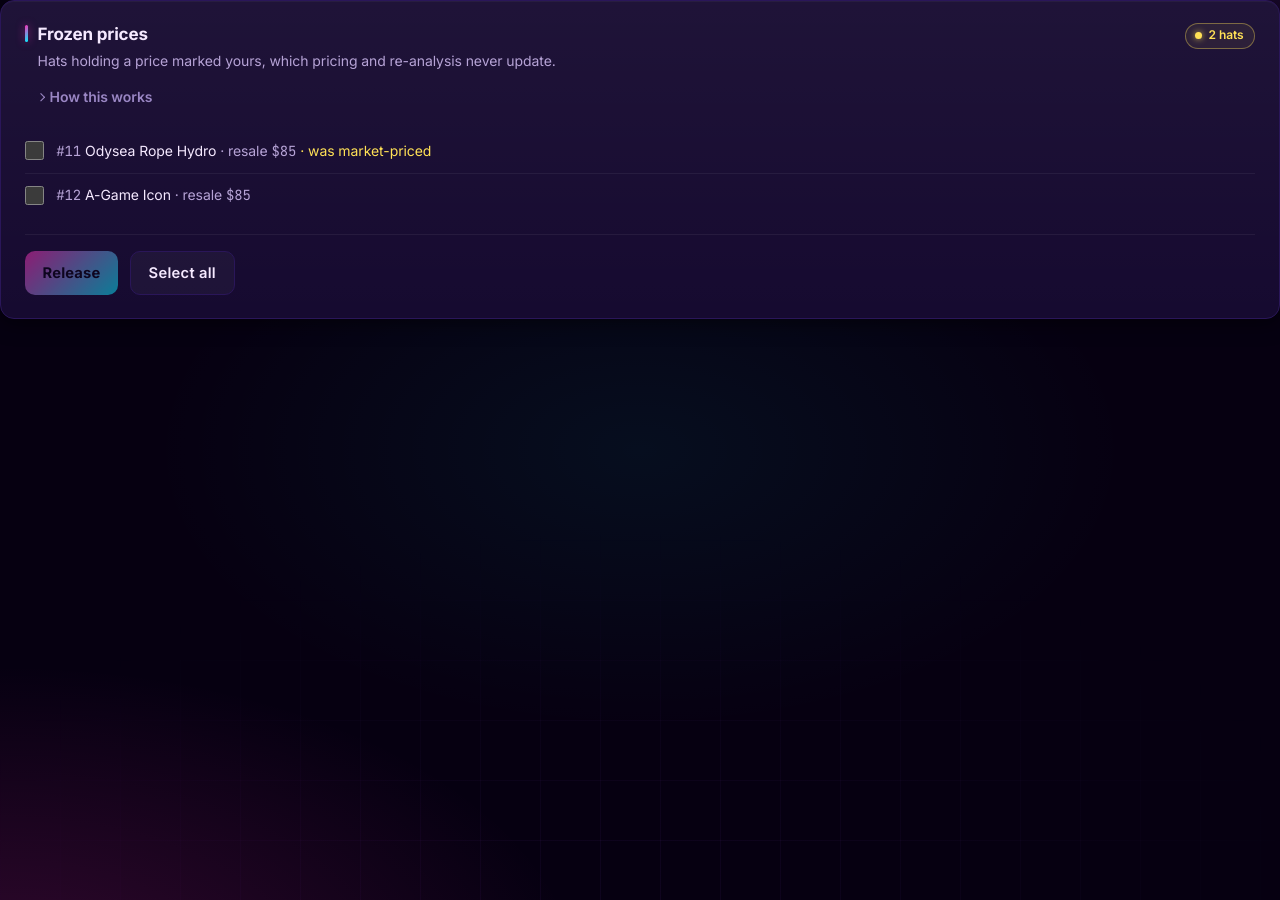
Test: FrozenPricesCard › releases only the ticked hats
Check: the button "Release" is disabled, box [25,252,118,296]
Click the checkbox named "Release hat 12": (35, 195) [25,186,44,205]
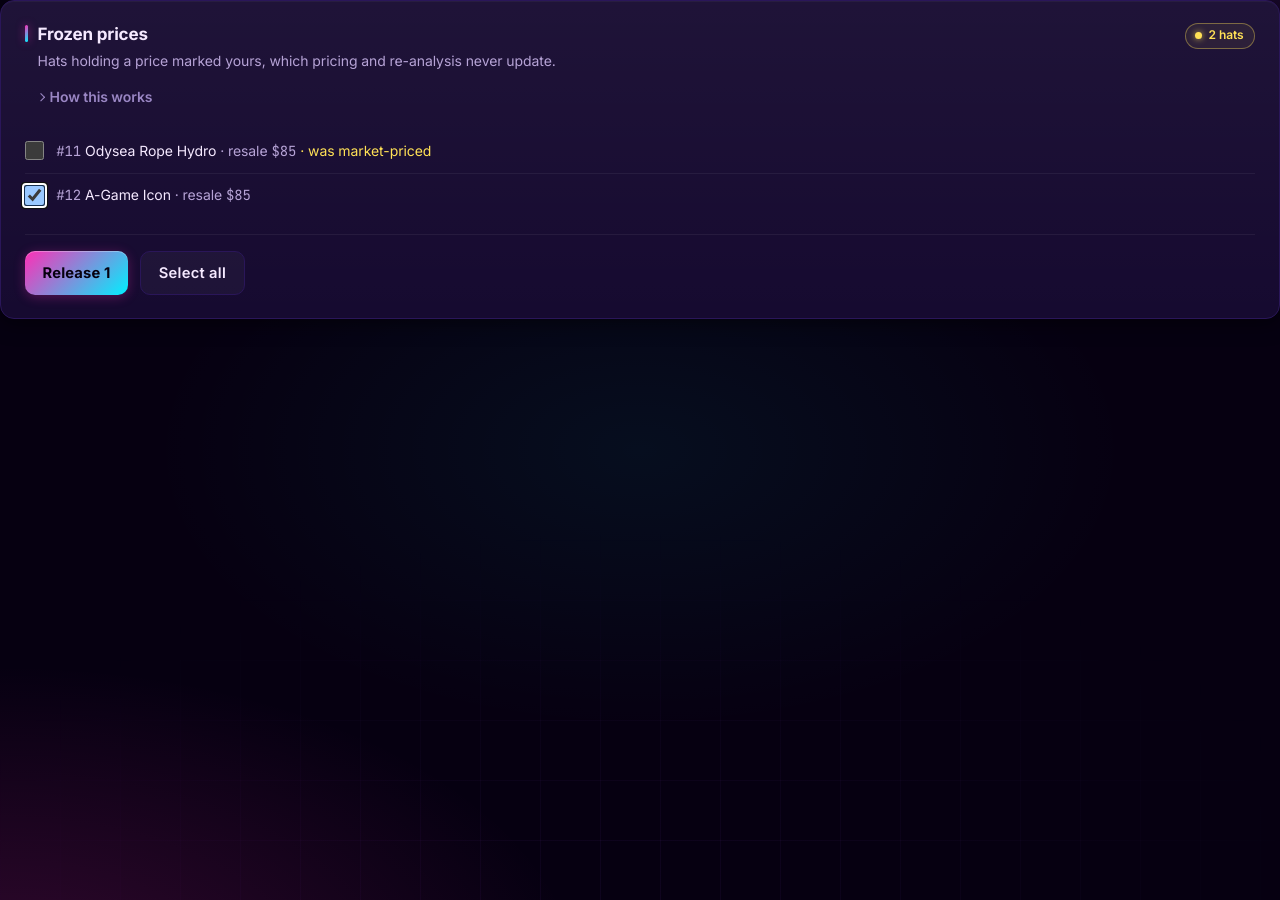
Click the button "Release 1": (77, 274) [25,252,128,296]
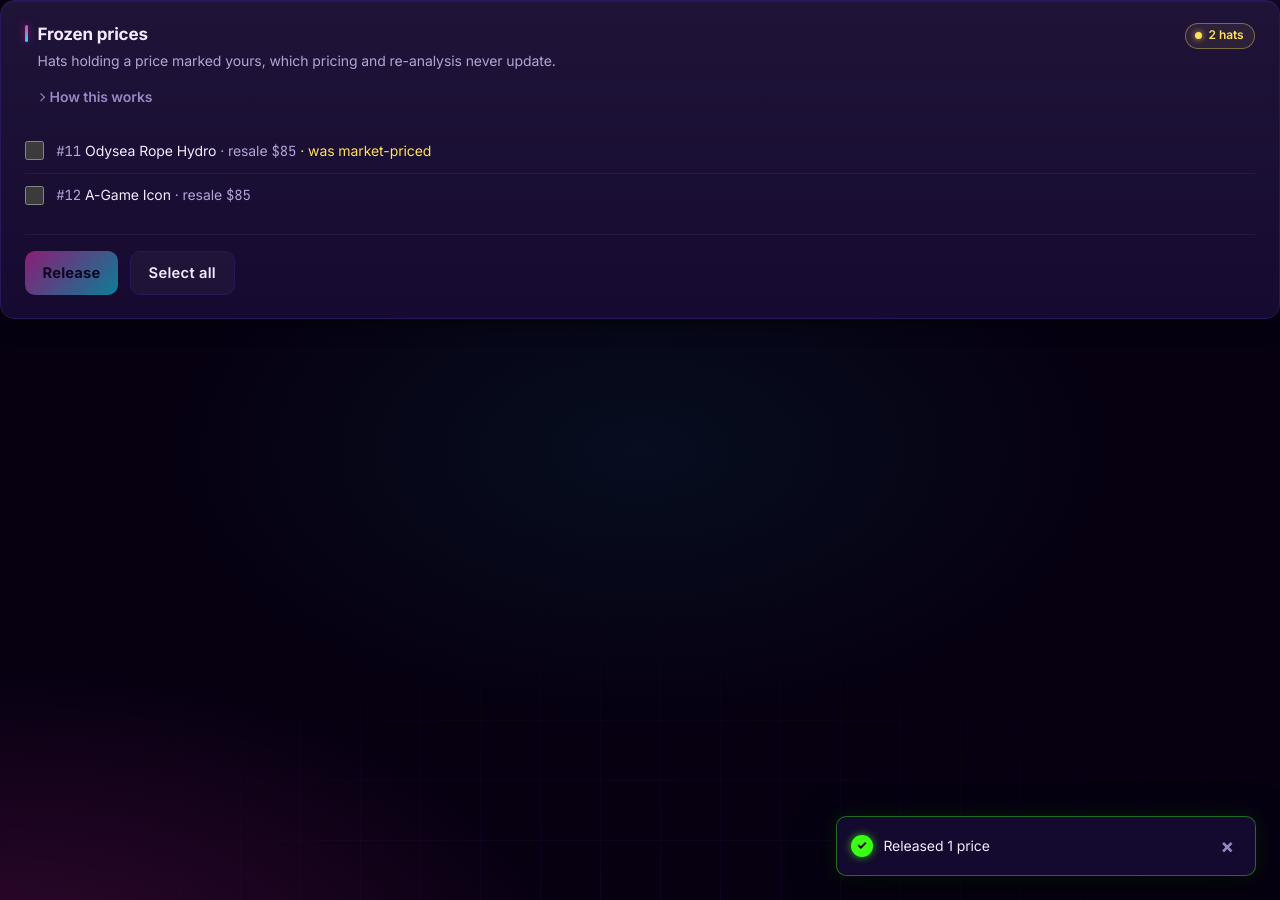
Check: the text "Released 1 price" is shown, box [883,837,990,854]
